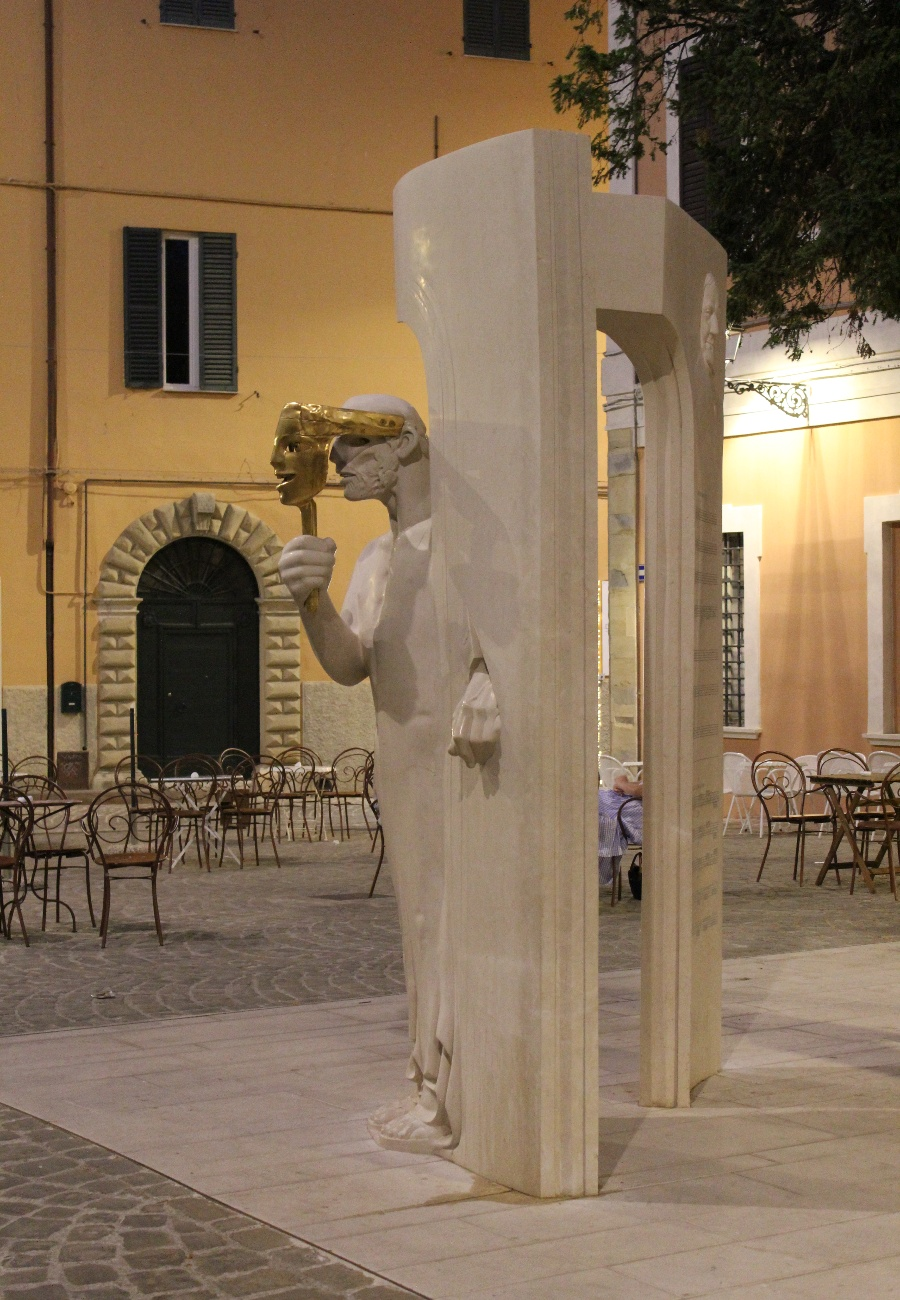Scultura della Memoria: (271, 393, 506, 1159)
